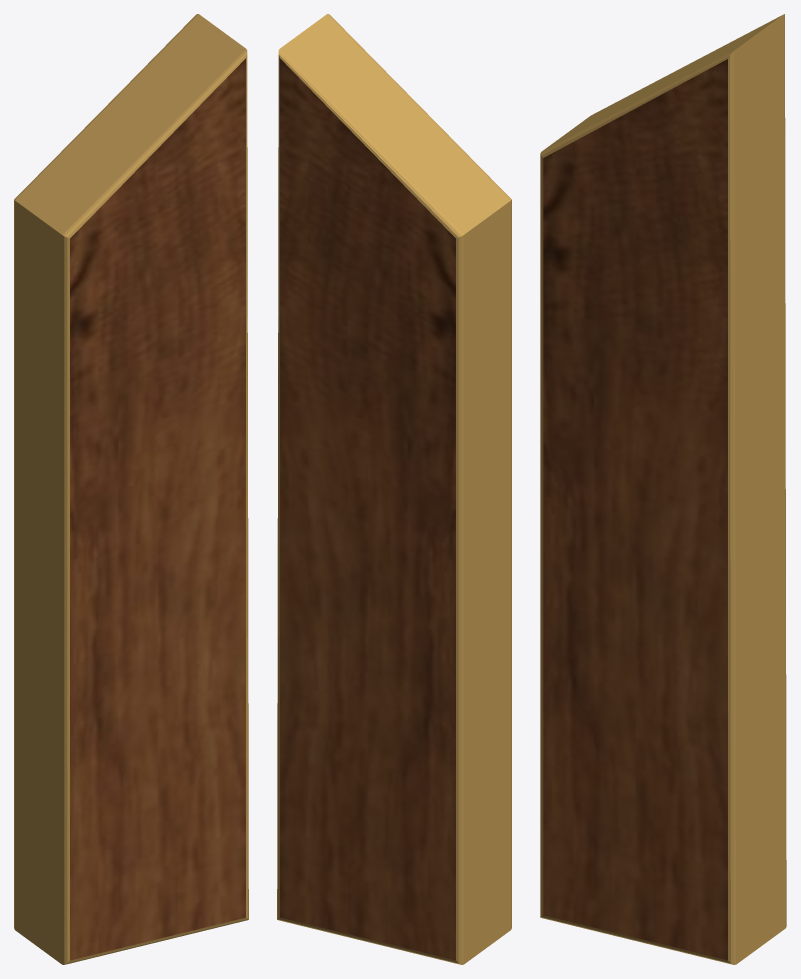
Rendered from briks-plank.glb.
3 views of the same model, side by side, from view 1: azimuth 30°, elevation 25°; view 2: azimuth 150°, elevation 25°; view 3: azimuth 330°, elevation 25° (orthographic). The views are drawn at different scales.
Visible parts, largest first — view 1: Briks_I_Plank; view 2: Briks_I_Plank; view 3: Briks_I_Plank.
Boxes of the visible parts, x1,y1,x2,y2 form: Briks_I_Plank: (14,14,248,964); Briks_I_Plank: (277,14,511,964); Briks_I_Plank: (540,14,786,964).
Bounding box in the file's own units: 0.2263 × 1.01 × 0.112.
2 materials, 1 textured.
